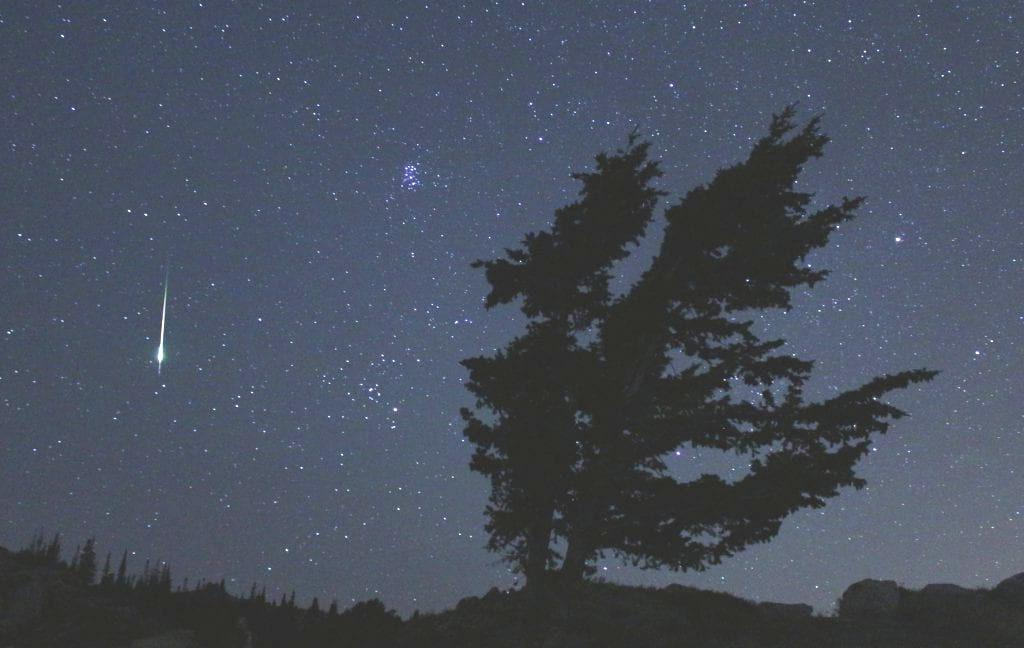meteorite: (144, 260, 182, 389)
